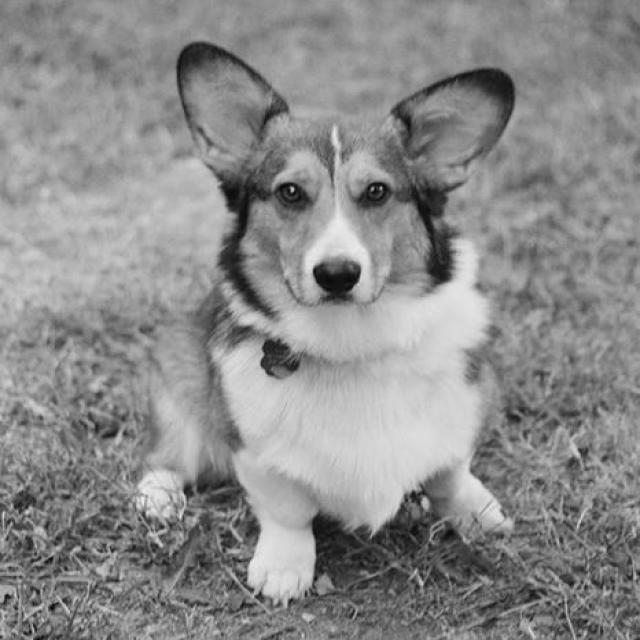sitting: (127, 34, 529, 612)
